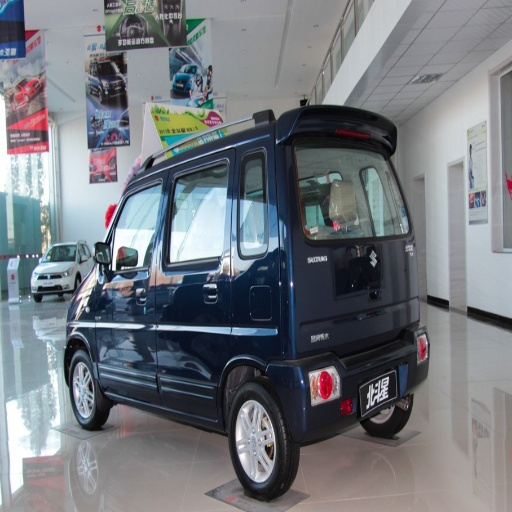back_bumper: (350, 338, 418, 382)
back_left_door: (156, 172, 234, 413)
tailgate: (296, 136, 366, 211)
trunk: (291, 216, 404, 353), (230, 328, 279, 370)
